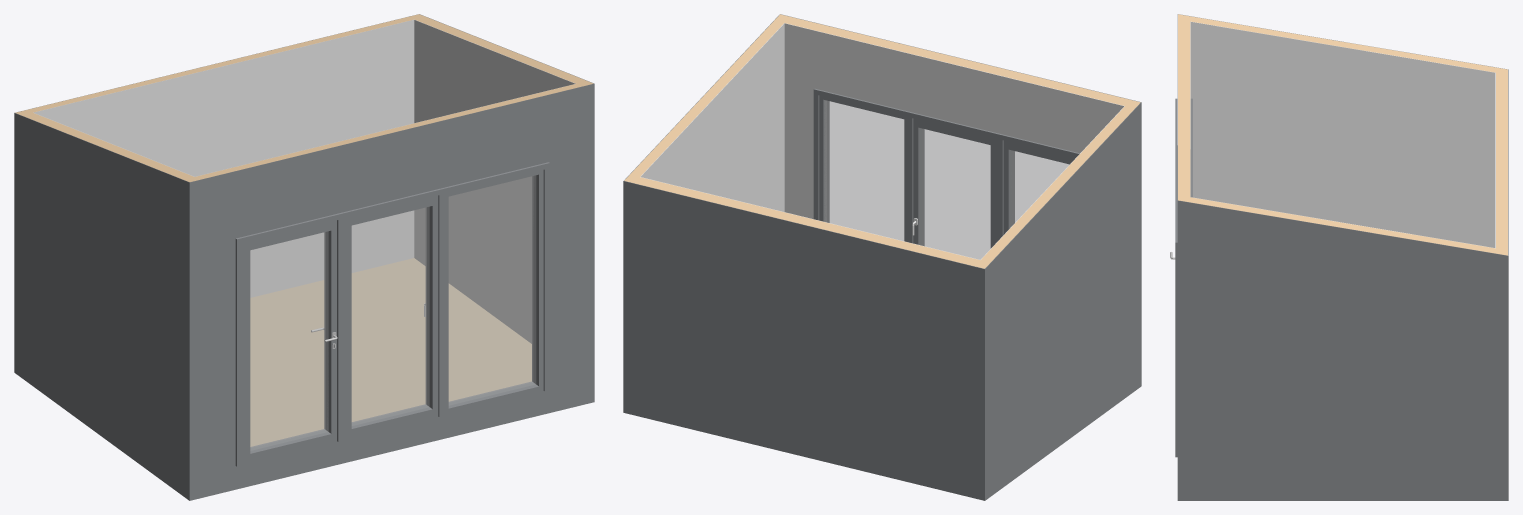
Rendered from Ireland_(3,0x4,0m)_R00.fbx.
3 renders of one model, left to right at view 1: azimuth 30°, elevation 25°; view 2: azimuth 150°, elevation 25°; view 3: azimuth 270°, elevation 25°, orthographic. The views are drawn at different scales.
Parts seen in each view (by area): view 1: IfcWall/Part:2319977, IfcWall/Part:2368366, IfcWall/Part:2397154, IfcSlab/Part:2319985, IfcDoor/Exterior door:1000x2100x120 (kairinės):2439432, IfcWindow/Langai (Akrusta):1000x2100x120:2571321, IfcWindow/Langai (Akrusta):1000x2100x120 (dešininis):2409843, IfcWall/Part:2568958, IfcWall/Part:2397156, IfcWall/Part:2319978, IfcWall/Part:2368367, IfcWall/Part:2568960; view 2: IfcWall/Part:2397155, IfcWall/Part:2368366, IfcWall/Part:2319976, IfcWall/Part:2568958, IfcWindow/Langai (Akrusta):1000x2100x120:2571321, IfcWindow/Langai (Akrusta):1000x2100x120 (dešininis):2409843, IfcDoor/Exterior door:1000x2100x120 (kairinės):2439432, IfcWall/Part:2319978, IfcWall/Part:2397156, IfcWall/Part:2368367, IfcWall/Part:2568960, IfcWall/Part:2319977; view 3: IfcWall/Part:2568959, IfcWall/Part:2368365, IfcWall/Part:2319978, IfcWall/Part:2397156, IfcWall/Part:2568960, IfcWall/Part:2368367, IfcWindow/Langai (Akrusta):1000x2100x120:2571321, IfcWall/Part:2319977, IfcWall/Part:2397155.
Boxes of the visible parts, box(x1,y1,x2,y2) form: IfcWall/Part:2319977: box(189, 83, 594, 500); IfcWall/Part:2368366: box(14, 113, 189, 500); IfcWall/Part:2397154: box(33, 19, 414, 297); IfcSlab/Part:2319985: box(250, 258, 531, 446); IfcDoor/Exterior door:1000x2100x120 (kairinės):2439432: box(235, 211, 347, 466); IfcWindow/Langai (Akrusta):1000x2100x120:2571321: box(438, 162, 549, 417); IfcWindow/Langai (Akrusta):1000x2100x120 (dešininis):2409843: box(337, 187, 448, 441); IfcWall/Part:2568958: box(414, 19, 575, 343); IfcWall/Part:2397156: box(15, 14, 425, 115); IfcWall/Part:2319978: box(184, 81, 593, 182); IfcWall/Part:2368367: box(22, 112, 193, 179); IfcWall/Part:2568960: box(415, 17, 586, 83); IfcWall/Part:2397155: box(623, 181, 985, 500); IfcWall/Part:2368366: box(985, 102, 1141, 500); IfcWall/Part:2319976: box(784, 23, 1124, 218); IfcWall/Part:2568958: box(640, 23, 784, 211); IfcWindow/Langai (Akrusta):1000x2100x120:2571321: box(813, 88, 913, 243); IfcWindow/Langai (Akrusta):1000x2100x120 (dešininis):2409843: box(904, 110, 1003, 259); IfcDoor/Exterior door:1000x2100x120 (kairinės):2439432: box(994, 133, 1079, 244); IfcWall/Part:2319978: box(774, 14, 1140, 108); IfcWall/Part:2397156: box(624, 174, 989, 268); IfcWall/Part:2368367: box(981, 106, 1134, 262); IfcWall/Part:2568960: box(630, 20, 783, 176); IfcWall/Part:2319977: box(780, 14, 1141, 385); IfcWall/Part:2568959: box(1178, 200, 1507, 500); IfcWall/Part:2368365: box(1190, 21, 1495, 247); IfcWall/Part:2319978: box(1178, 14, 1190, 202); IfcWall/Part:2397156: box(1496, 67, 1507, 255); IfcWall/Part:2568960: box(1190, 197, 1495, 253); IfcWall/Part:2368367: box(1190, 16, 1495, 72); IfcWindow/Langai (Akrusta):1000x2100x120:2571321: box(1175, 192, 1192, 457); IfcWall/Part:2319977: box(1177, 14, 1177, 500); IfcWall/Part:2397155: box(1508, 69, 1508, 500).
Bounding box in the file's own units: 400 × 300 × 307.
